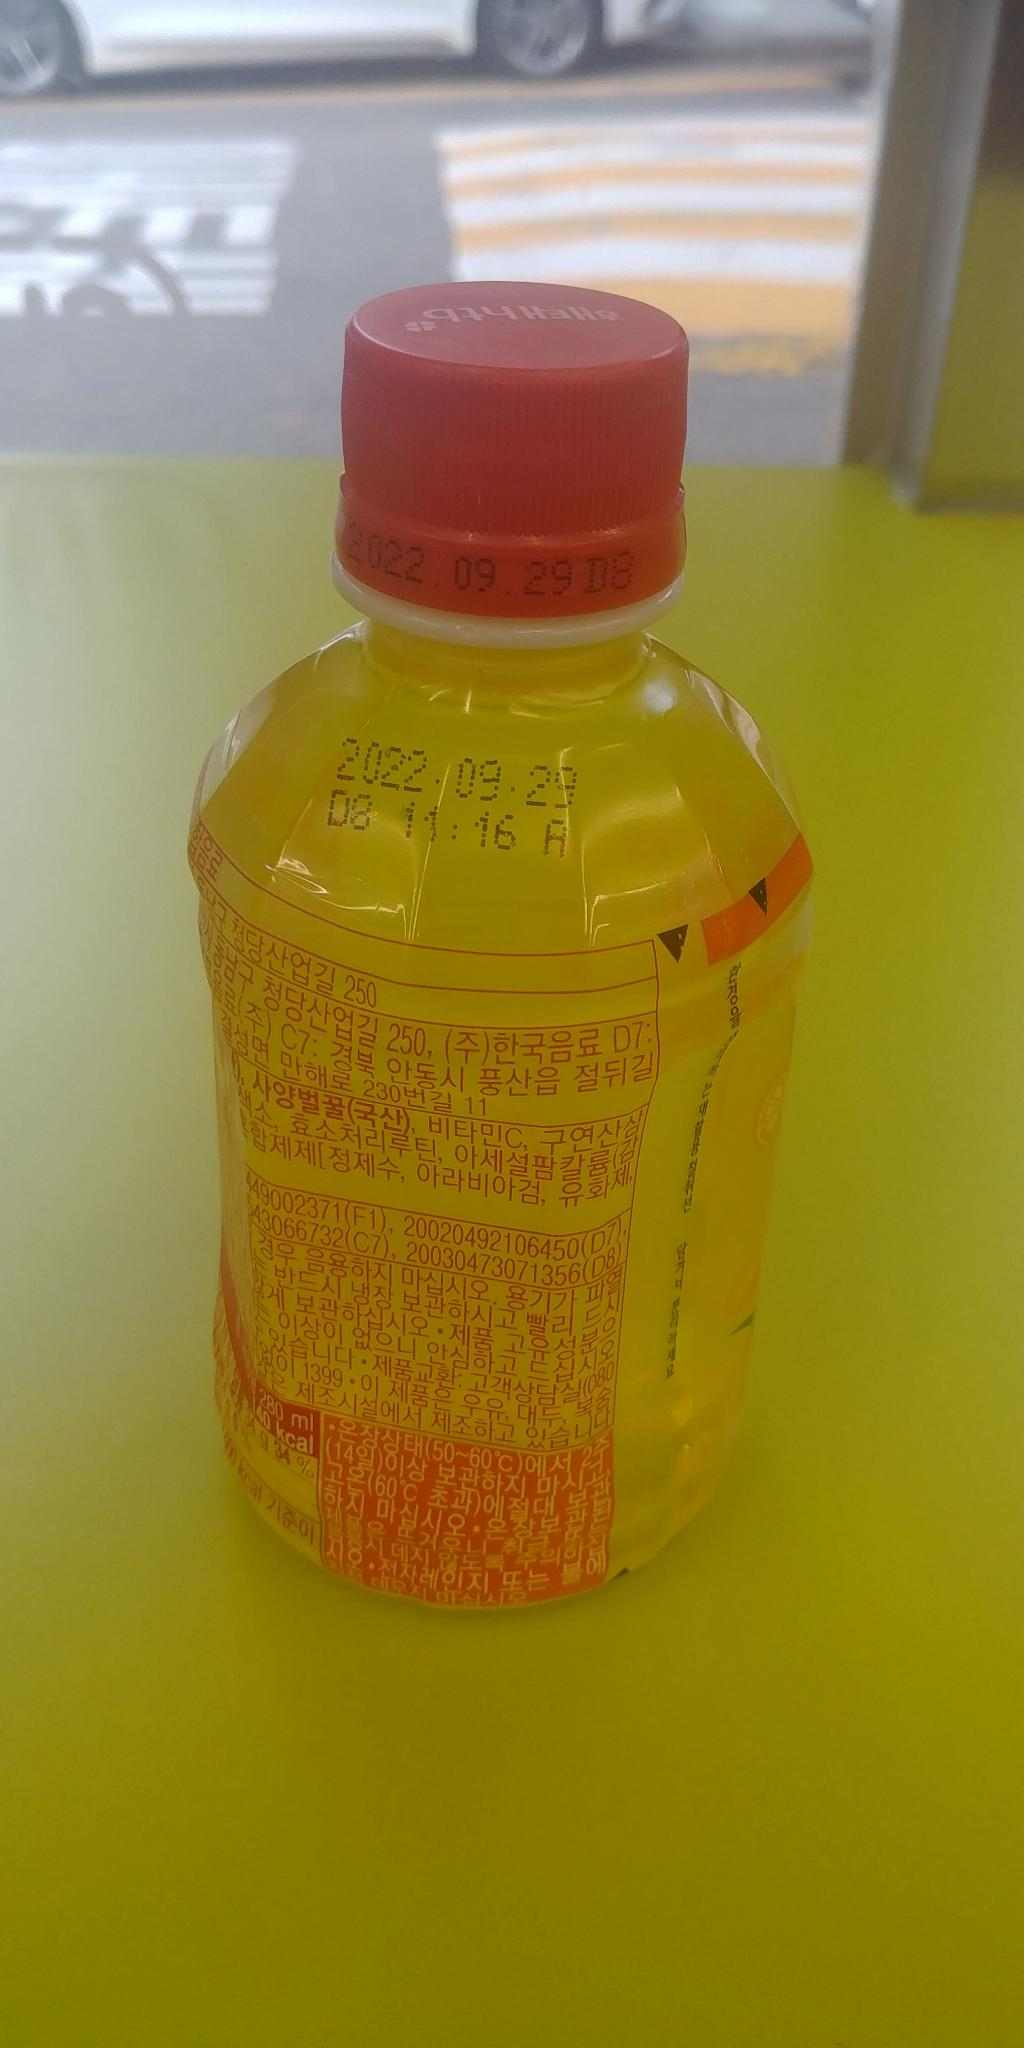honeyyuja: (171, 248, 819, 1634)
